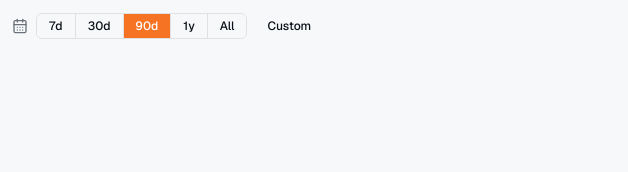
Test: DateRangeFilter › shows date inputs when Custom is clicked
Click the button "Custom": (289,26) [256,12,323,40]
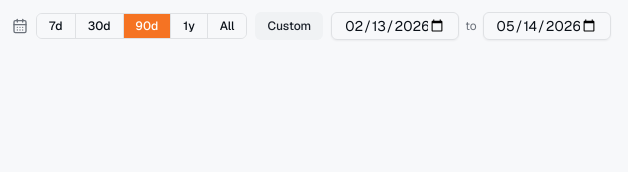
Result: the number of date fields is 2 at [331,12,459,40]; [483,12,611,40]
